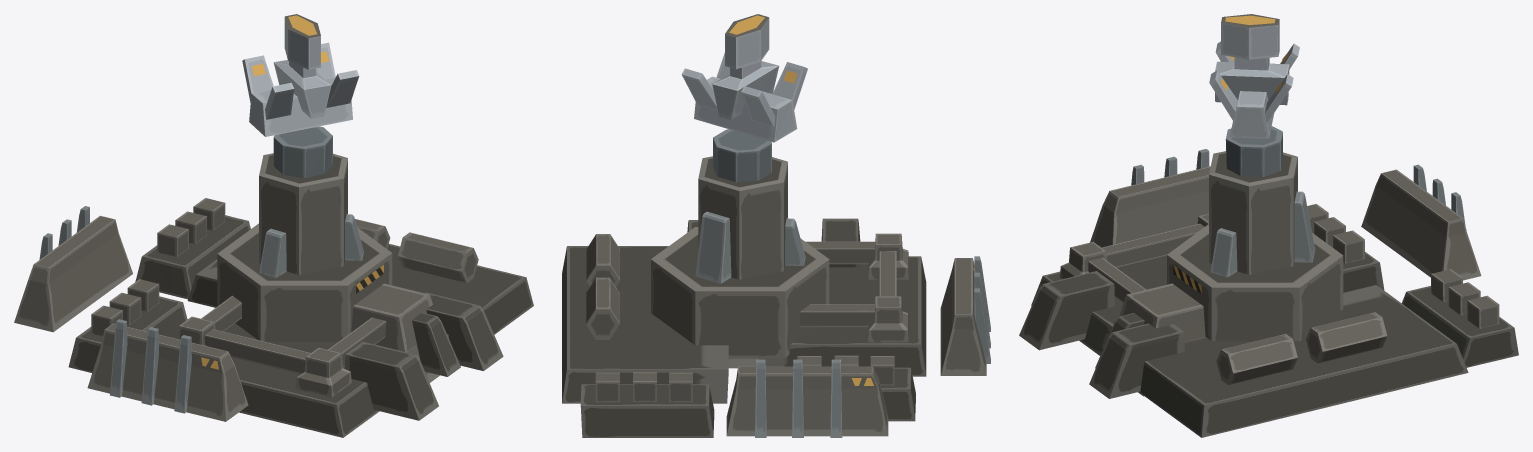
File: bastion1.FBX
The picture shows the model from 3 angles, left to right: view 1: azimuth 30°, elevation 25°; view 2: azimuth 150°, elevation 25°; view 3: azimuth 270°, elevation 25°; orthographic projection.
Parts seen in each view (by area): view 1: bastion1, a; view 2: bastion1, a; view 3: bastion1, a.
Boxes of the visible parts, <box> form: bastion1: <box>14,126,533,437</box>; a: <box>242,14,359,136</box>; bastion1: <box>562,129,990,437</box>; a: <box>681,14,807,142</box>; bastion1: <box>1019,126,1518,437</box>; a: <box>1209,14,1299,138</box>.
Size of the model in its own units: 162 by 161 by 116.
